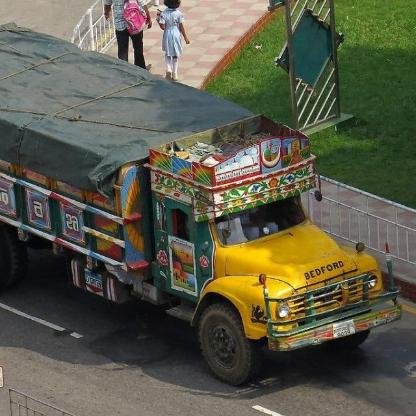truck: (6, 28, 388, 376)
